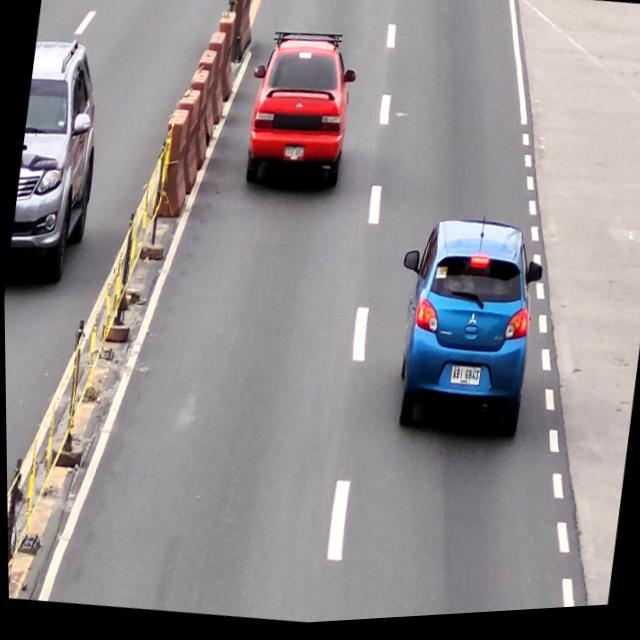Car: (380, 213, 550, 453), (239, 27, 362, 202)
License-Plate: (447, 367, 480, 393), (282, 148, 305, 165)
